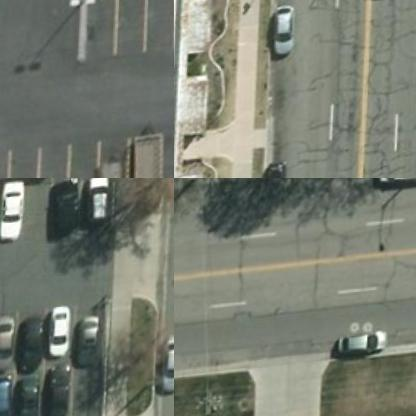car: (264, 7, 298, 60), (14, 318, 42, 378), (38, 371, 75, 415), (332, 338, 390, 366), (0, 179, 23, 245), (47, 307, 74, 363), (52, 182, 78, 232), (74, 320, 102, 366), (82, 180, 108, 228), (156, 339, 173, 399), (12, 380, 41, 415), (0, 311, 16, 371), (0, 380, 13, 415)
